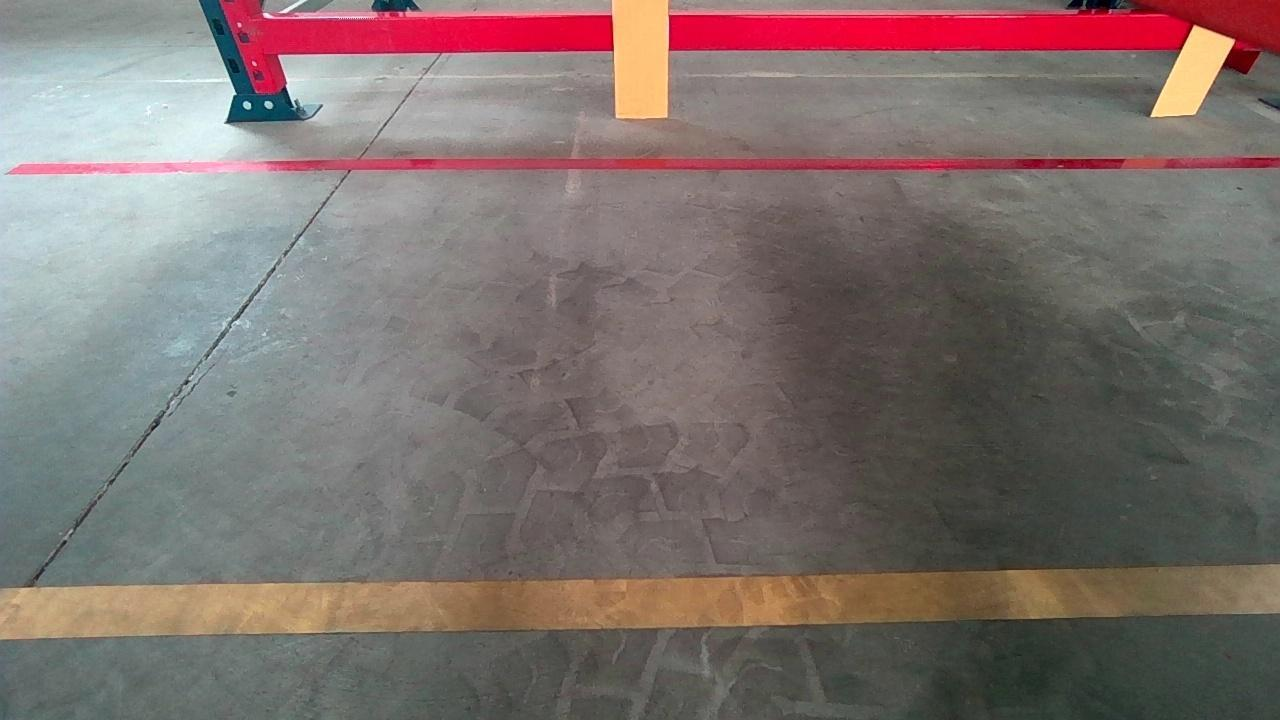h_rack: (265, 5, 1177, 58)
orange_strip: (1152, 23, 1236, 115), (614, 0, 670, 116)
red_line: (6, 152, 1278, 175)
yellow_line: (5, 563, 1266, 641)
